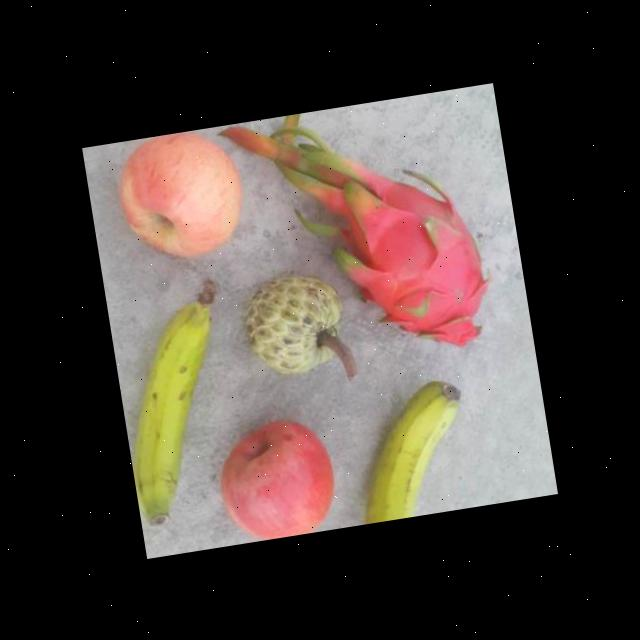Sakya fruit: (238, 265, 356, 383)
apple: (108, 123, 254, 270), (208, 411, 343, 545)
banana: (106, 280, 252, 530), (335, 376, 479, 524)
pitaya: (330, 160, 504, 370)
